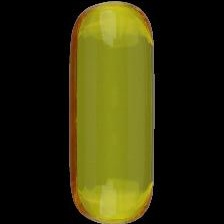51655-773: (0, 0, 224, 224)
